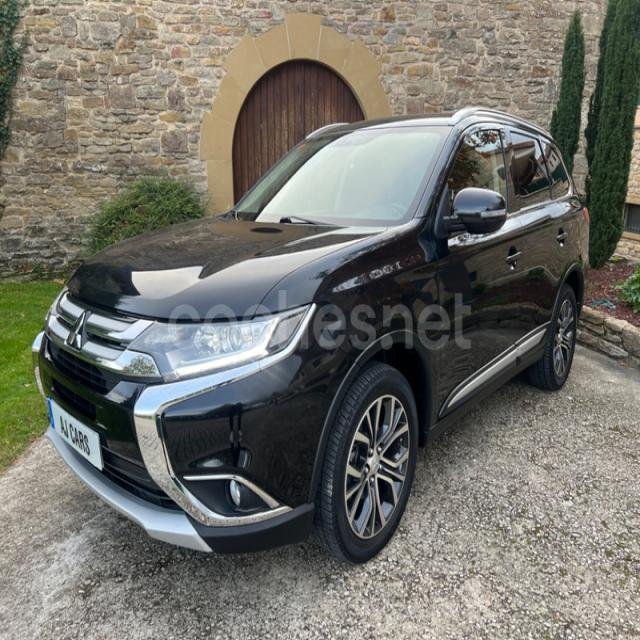light_vehicle: (32, 106, 590, 566)
